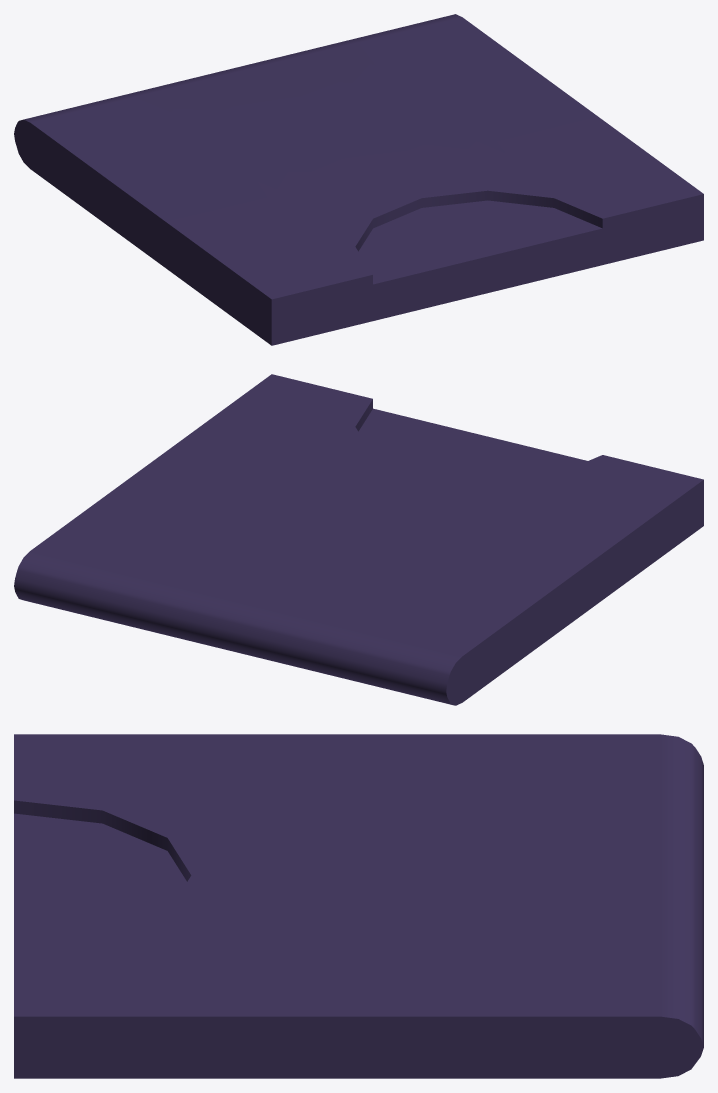
Rendered from Folded_Tshirt.fbx.
3 views of the same model, one above another, from view 1: azimuth 30°, elevation 25°; view 2: azimuth 150°, elevation 25°; view 3: azimuth 270°, elevation 25° (orthographic). The views are drawn at different scales.
Visible parts, largest first — view 1: ft_01; view 2: ft_01; view 3: ft_01.
Part boxes in pixels (x1=…): ft_01: x1=14, y1=14, x2=703, y2=345; ft_01: x1=14, y1=374, x2=703, y2=705; ft_01: x1=14, y1=734, x2=703, y2=1078.
Size of the model in its own units: 111 by 11.36 by 114.
